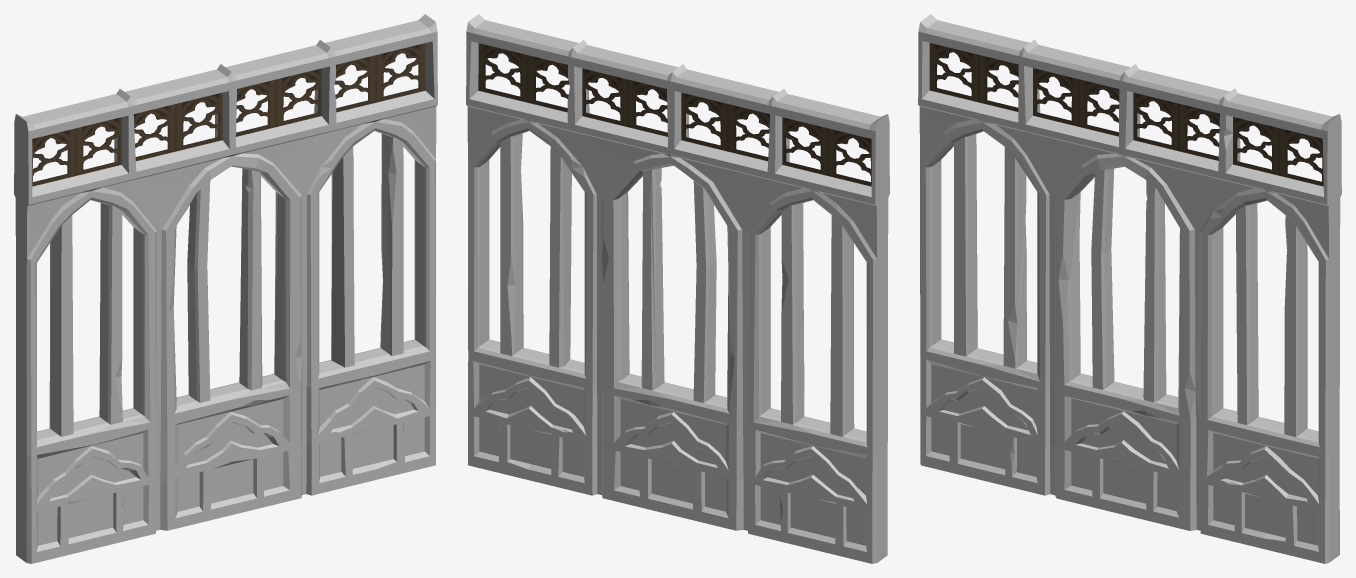
The model's file is SM_Bld_Partition_01.fbx.
3 views of the same model, side by side, from view 1: azimuth 30°, elevation 25°; view 2: azimuth 150°, elevation 25°; view 3: azimuth 330°, elevation 25° (orthographic).
Visible parts, largest first — view 1: SM_Bld_Partition_01; view 2: SM_Bld_Partition_01; view 3: SM_Bld_Partition_01.
Part boxes in pixels (bbox=[...]): SM_Bld_Partition_01: bbox=[14, 14, 437, 563]; SM_Bld_Partition_01: bbox=[466, 14, 889, 563]; SM_Bld_Partition_01: bbox=[918, 14, 1341, 563].
Bounding box in the file's own units: 250 × 258 × 15.92.
